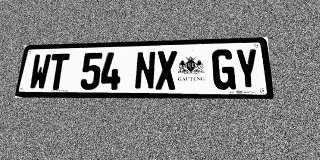4: (100, 52, 122, 90)
5: (80, 52, 103, 90)
G: (212, 49, 236, 90)
N: (134, 51, 156, 90)
T: (46, 53, 70, 90)
W: (28, 54, 52, 90)
X: (155, 50, 177, 90)
Y: (234, 48, 260, 90)
